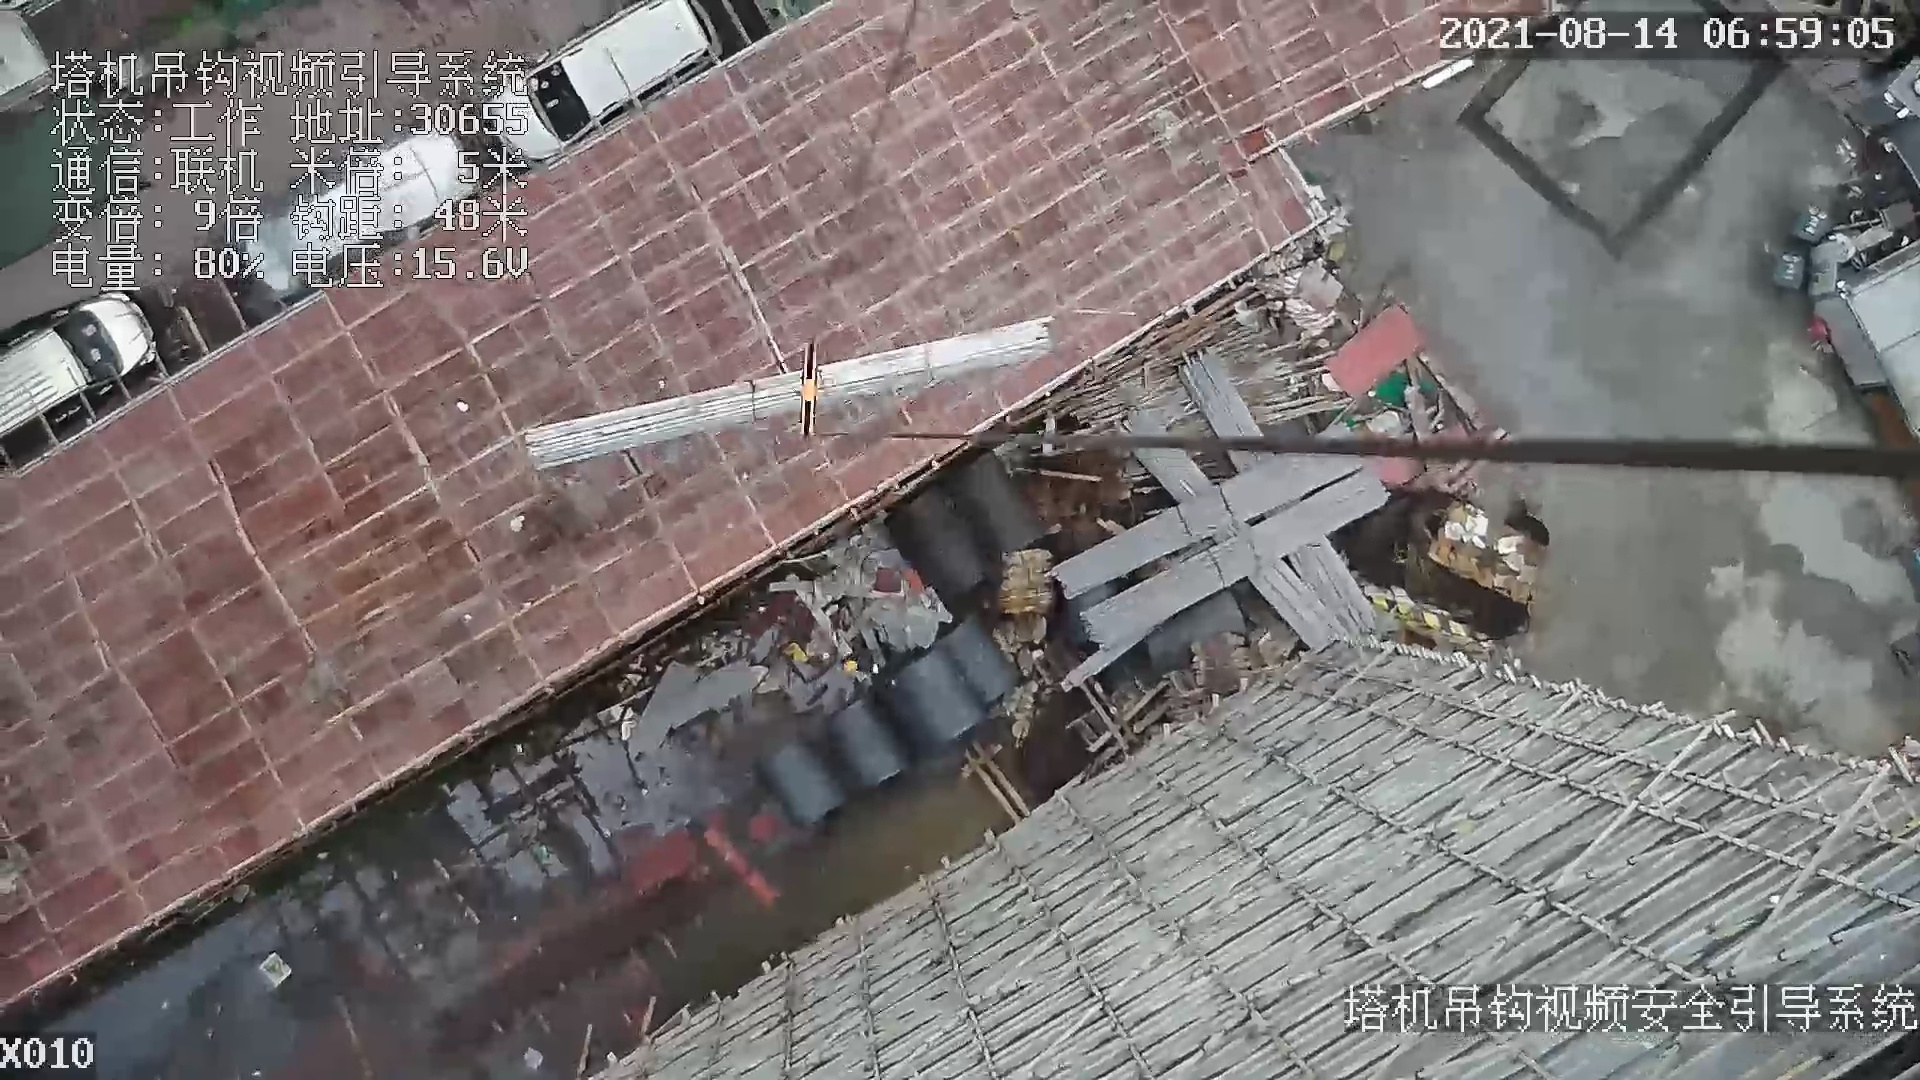hook: (793, 334, 827, 440)
rebar: (517, 315, 1051, 465), (1178, 349, 1374, 637), (1080, 472, 1389, 644), (1048, 429, 1361, 597), (1126, 410, 1342, 651)
wood: (997, 550, 1052, 616)
